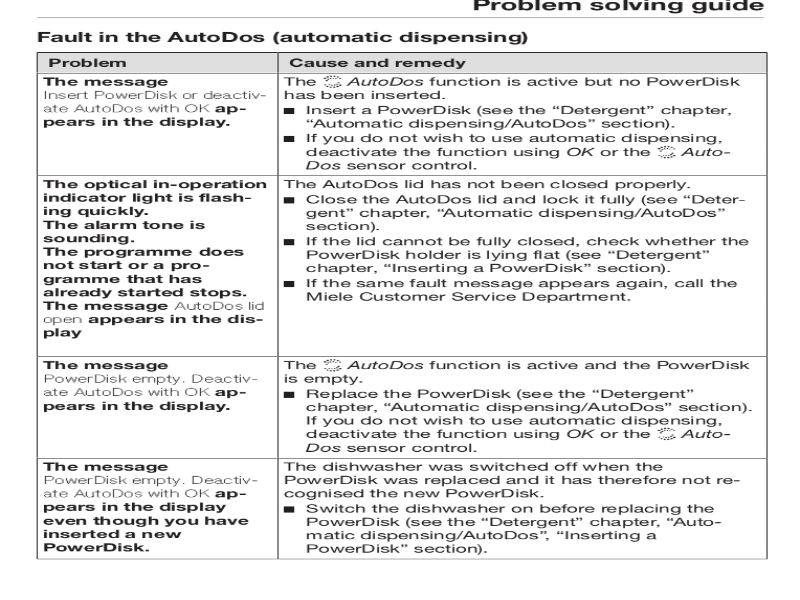border: (28, 46, 786, 571)
cell: (280, 178, 761, 341), (279, 358, 764, 455), (280, 75, 760, 173), (280, 460, 764, 556), (39, 176, 272, 342), (40, 459, 262, 555), (41, 76, 272, 143), (39, 359, 272, 425), (287, 55, 474, 71), (42, 55, 141, 71)
